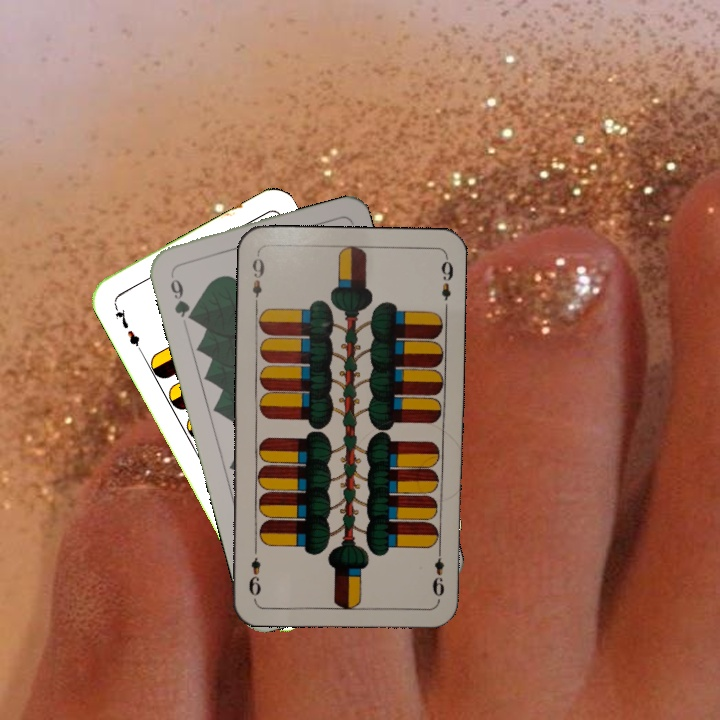E7: (109, 300, 145, 354)
E9: (248, 250, 267, 309), (428, 544, 447, 599)
G9: (166, 268, 197, 324)
